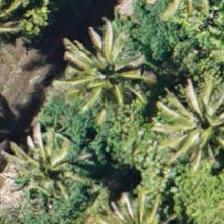coconut_tree: (2, 112, 92, 202), (55, 29, 145, 119), (151, 81, 223, 171), (85, 177, 175, 223)
